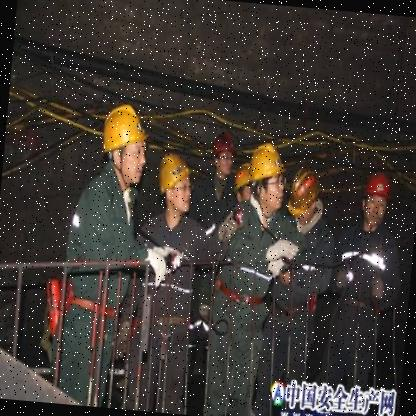capacete: (97, 103, 151, 188), (246, 143, 290, 215), (154, 148, 196, 216), (288, 167, 322, 226), (360, 172, 393, 229), (212, 132, 237, 176)
sem_colete_refletivo: (53, 162, 140, 322), (127, 210, 210, 338), (327, 222, 409, 349), (214, 195, 288, 330), (266, 209, 340, 323), (184, 170, 234, 264)
